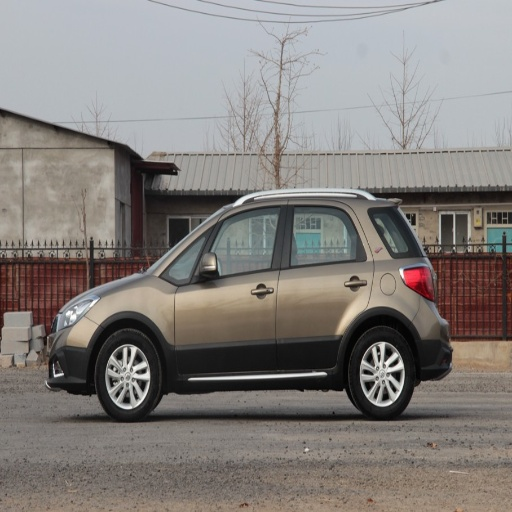back_bumper: (413, 307, 449, 371)
back_glass: (371, 208, 415, 256)
back_left_door: (276, 200, 372, 369)
front_left_door: (170, 200, 286, 374)
